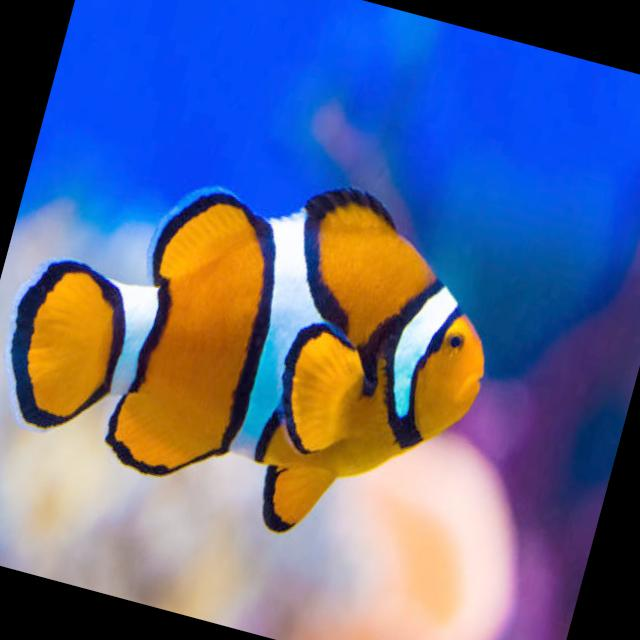ClownFish: (0, 111, 523, 569)
